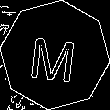M_N: (29, 27, 81, 83)
